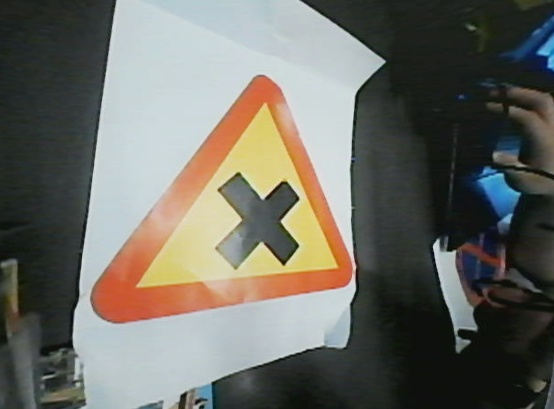junction: (81, 82, 396, 327)
